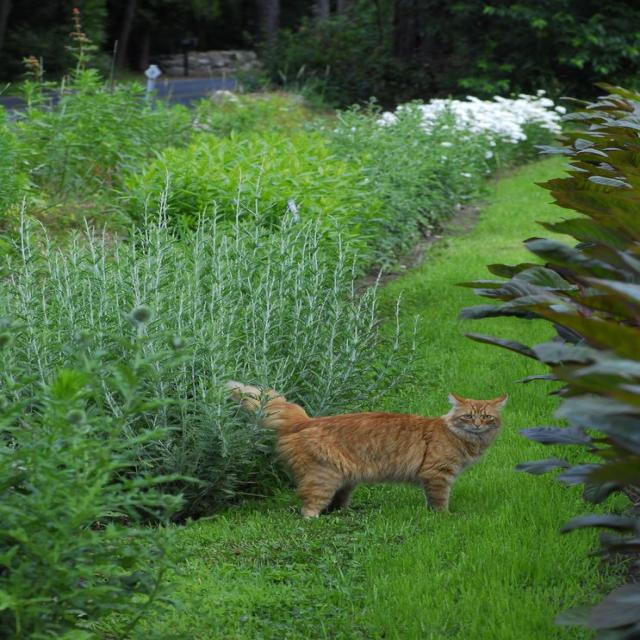Cat: (220, 380, 508, 520)
